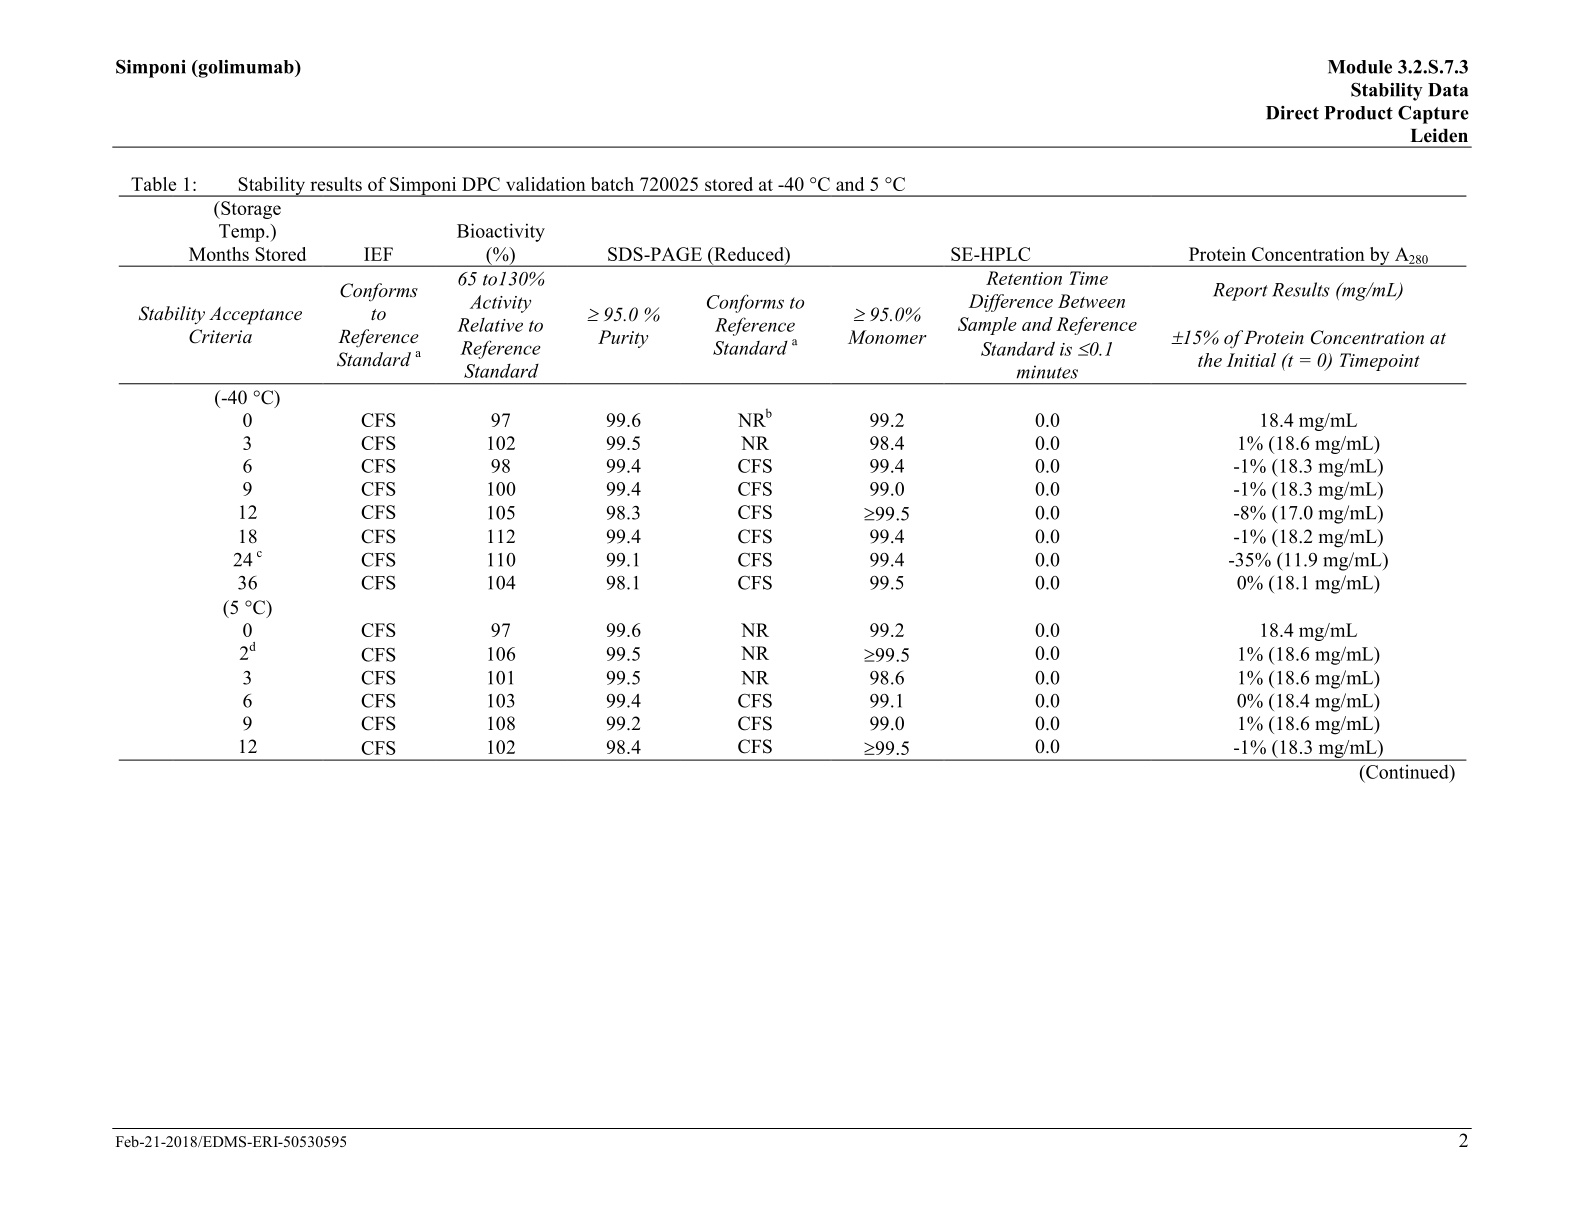partial_lined_merged_cells: (118, 194, 1470, 762)
